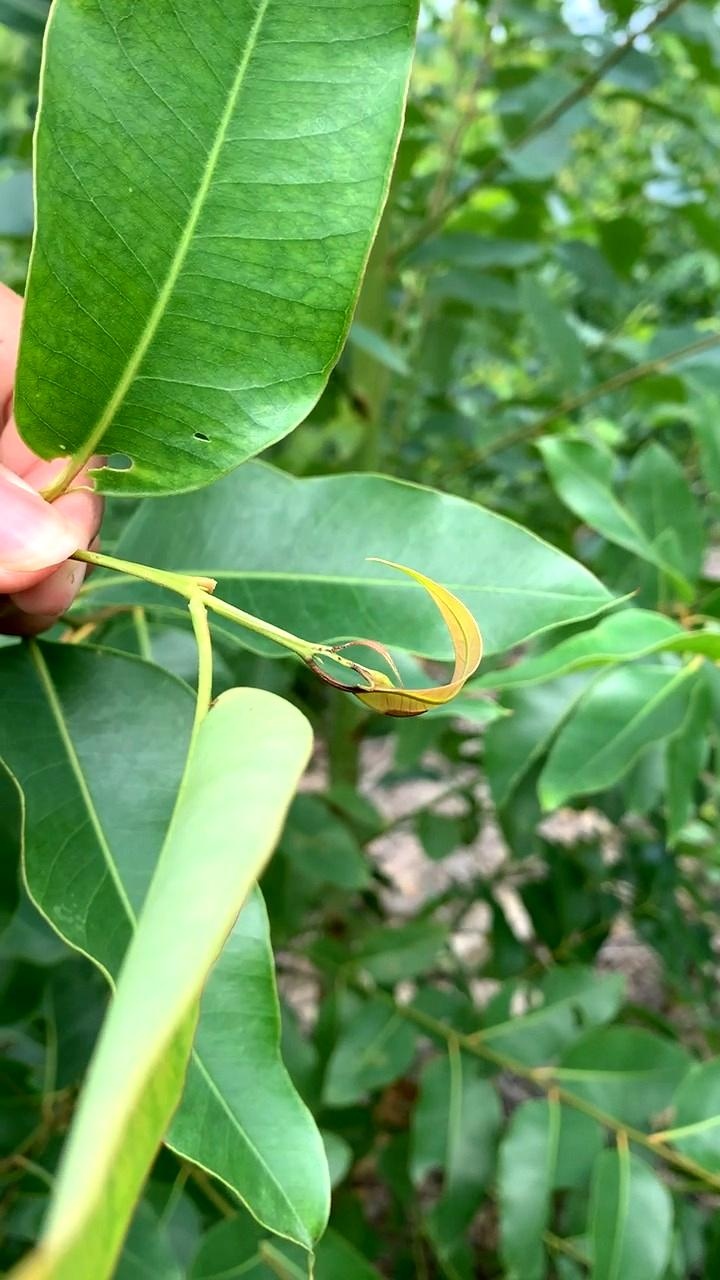Helopeltis-Withered Sprout: (305, 546, 491, 731)
